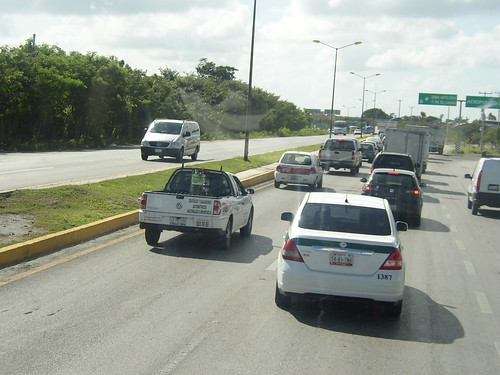car: (272, 195, 405, 326), (133, 169, 255, 245), (355, 166, 426, 229), (137, 116, 204, 164), (464, 153, 500, 216), (271, 149, 323, 192), (318, 135, 360, 170)
light pole: (317, 31, 361, 142)
sign: (415, 89, 460, 108), (464, 92, 500, 111)
sky: (140, 1, 500, 89)
street: (1, 138, 500, 375)
vegetation: (1, 52, 302, 148)
